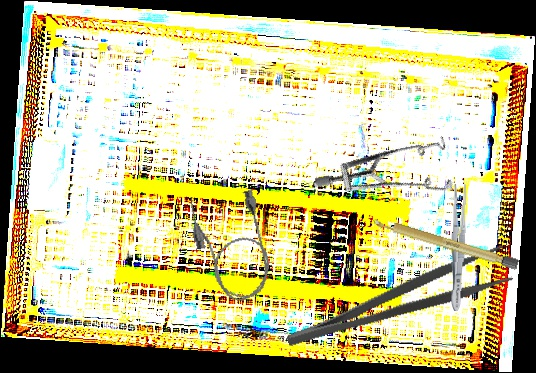Cannula: (183, 181, 280, 309)
Dressing Forceps: (279, 243, 514, 352), (447, 183, 469, 312)
Scalpel Handle: (370, 215, 520, 270)
Speculum: (311, 95, 472, 241)
